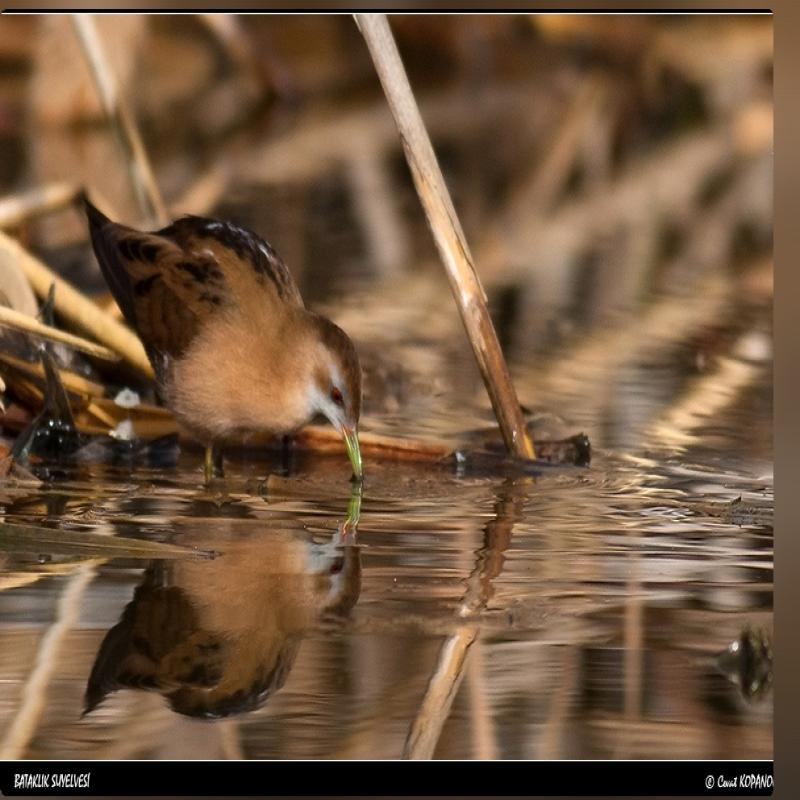little crake: (70, 180, 368, 486)
